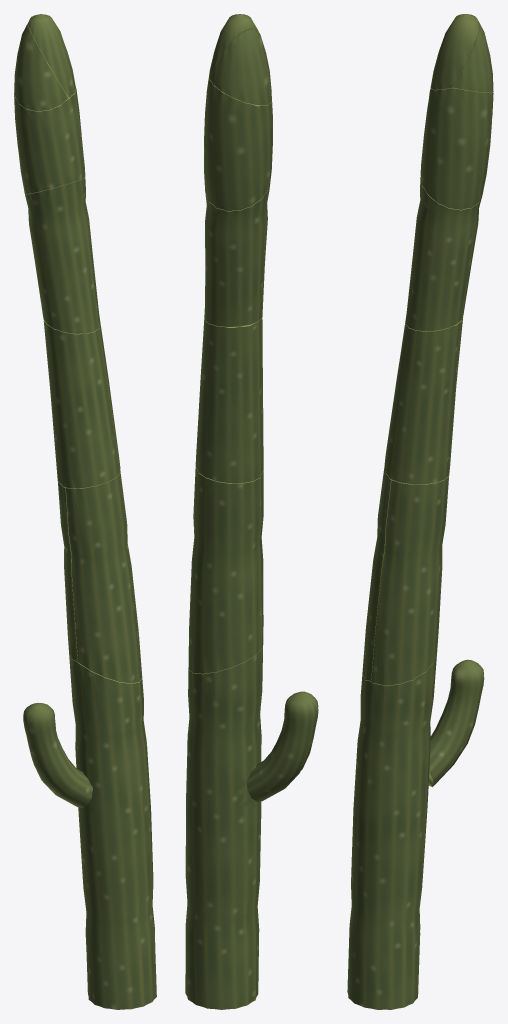
Rendered from chaparall1_fractured.fbx.
3 views of the same model, side by side, from view 1: azimuth 90°, elevation 25°; view 2: azimuth 210°, elevation 25°; view 3: azimuth 270°, elevation 25° (orthographic). The views are drawn at different scales.
Visible parts, largest first — view 1: chaparall_low_cell.003, chaparall_low_cell.001, chaparall_low_cell.007, chaparall_low_cell.004, chaparall_low_cell, chaparall_low_cell.008, chaparall_low_cell.005, chaparall_low_cell.006, chaparall_low_cell.002; view 2: chaparall_low_cell.003, chaparall_low_cell.002, chaparall_low_cell.007, chaparall_low_cell, chaparall_low_cell.004, chaparall_low_cell.008, chaparall_low_cell.005, chaparall_low_cell.006, chaparall_low_cell.001; view 3: chaparall_low_cell.003, chaparall_low_cell.002, chaparall_low_cell.007, chaparall_low_cell.004, chaparall_low_cell, chaparall_low_cell.008, chaparall_low_cell.006, chaparall_low_cell.001, chaparall_low_cell.005.
Part boxes in pixels (x1=…): chaparall_low_cell.003: x1=69, y1=656, x2=156, y2=1009; chaparall_low_cell.001: x1=65, y1=473, x2=142, y2=683; chaparall_low_cell.007: x1=43, y1=320, x2=120, y2=488; chaparall_low_cell.004: x1=25, y1=178, x2=100, y2=333; chaparall_low_cell: x1=14, y1=87, x2=85, y2=193; chaparall_low_cell.008: x1=23, y1=703, x2=92, y2=808; chaparall_low_cell.005: x1=14, y1=24, x2=68, y2=111; chaparall_low_cell.006: x1=27, y1=14, x2=75, y2=97; chaparall_low_cell.002: x1=58, y1=481, x2=77, y2=661; chaparall_low_cell.003: x1=185, y1=648, x2=262, y2=1009; chaparall_low_cell.002: x1=188, y1=467, x2=261, y2=673; chaparall_low_cell.007: x1=195, y1=318, x2=263, y2=483; chaparall_low_cell: x1=204, y1=78, x2=272, y2=211; chaparall_low_cell.004: x1=204, y1=180, x2=270, y2=327; chaparall_low_cell.008: x1=246, y1=691, x2=318, y2=801; chaparall_low_cell.005: x1=209, y1=29, x2=271, y2=105; chaparall_low_cell.006: x1=208, y1=14, x2=258, y2=78; chaparall_low_cell.001: x1=259, y1=471, x2=263, y2=649; chaparall_low_cell.003: x1=347, y1=653, x2=436, y2=1009; chaparall_low_cell.002: x1=371, y1=476, x2=448, y2=685; chaparall_low_cell.007: x1=384, y1=316, x2=463, y2=484; chaparall_low_cell.004: x1=405, y1=176, x2=482, y2=331; chaparall_low_cell: x1=420, y1=87, x2=493, y2=209; chaparall_low_cell.008: x1=428, y1=659, x2=484, y2=786; chaparall_low_cell.006: x1=430, y1=14, x2=479, y2=89; chaparall_low_cell.001: x1=362, y1=466, x2=391, y2=680; chaparall_low_cell.005: x1=453, y1=23, x2=493, y2=92.
Size of the model in its own units: 44.4 by 422 by 56.32.
